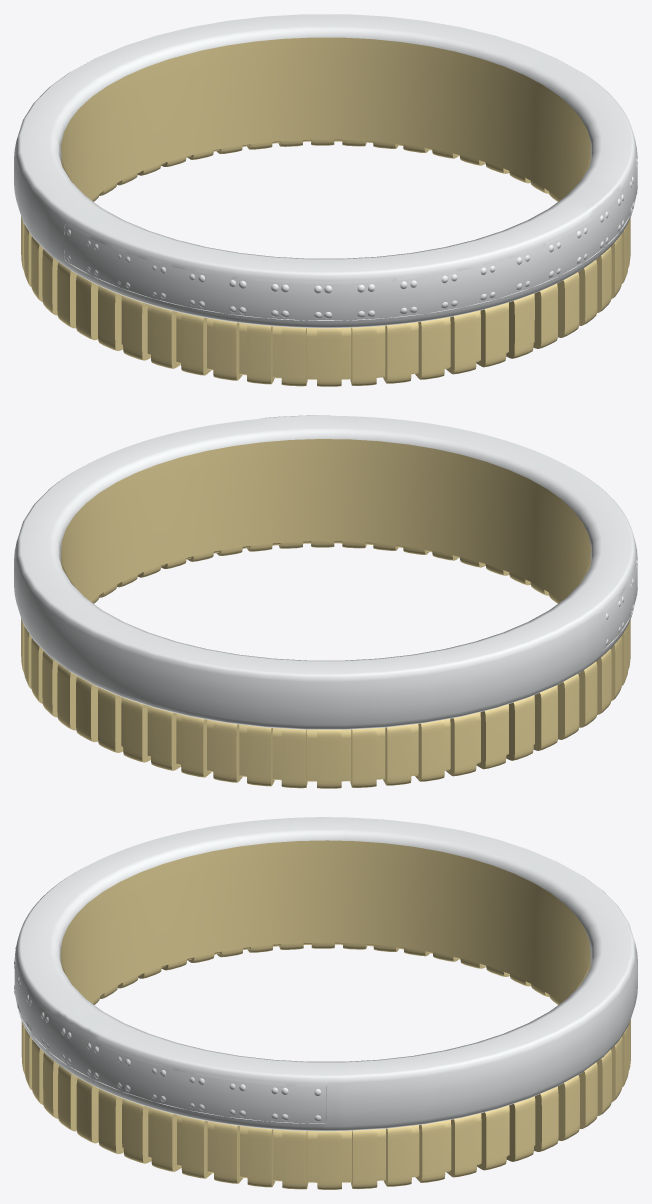
3 renders of one model, top to bottom at view 1: azimuth 30°, elevation 25°; view 2: azimuth 150°, elevation 25°; view 3: azimuth 270°, elevation 25°, orthographic.
Visible parts, largest first — view 1: Engraving_Metal, Base_Metal, Finishing_Metal, Base_Metal_NoDiamond; view 2: Base_Metal, Engraving_Metal, Finishing_Metal, Base_Metal_NoDiamond; view 3: Engraving_Metal, Base_Metal, Finishing_Metal, Base_Metal_NoDiamond.
Boxes of the visible parts, bbox=[...] form: Engraving_Metal: bbox=[61, 37, 590, 199]; Base_Metal: bbox=[14, 14, 637, 328]; Finishing_Metal: bbox=[21, 139, 630, 386]; Base_Metal_NoDiamond: bbox=[14, 14, 637, 320]; Base_Metal: bbox=[14, 415, 637, 729]; Engraving_Metal: bbox=[61, 439, 591, 601]; Finishing_Metal: bbox=[21, 541, 630, 788]; Base_Metal_NoDiamond: bbox=[14, 416, 637, 729]; Engraving_Metal: bbox=[60, 840, 590, 1002]; Base_Metal: bbox=[14, 817, 637, 1131]; Finishing_Metal: bbox=[21, 942, 630, 1189]; Base_Metal_NoDiamond: bbox=[14, 818, 637, 1130].
Bounding box in the file's own units: 2.02 × 0.4198 × 2.02.
